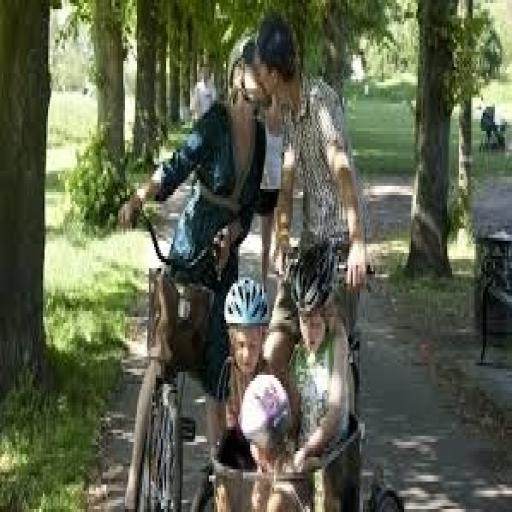cycling: (116, 30, 272, 506), (283, 238, 356, 509)
